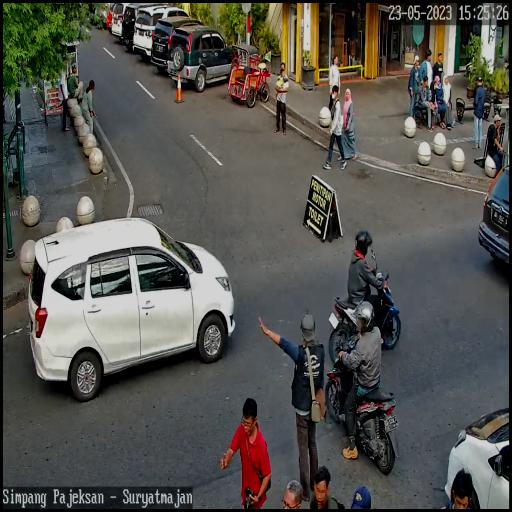mobil: (26, 213, 235, 399), (168, 26, 240, 94), (153, 11, 207, 81), (134, 4, 192, 60)
motor: (326, 326, 400, 478), (329, 259, 401, 362)
